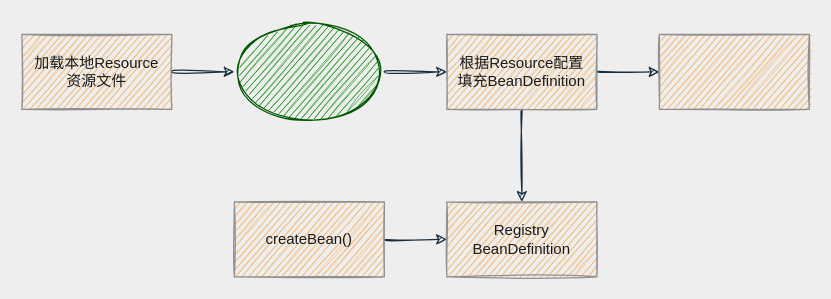
The diagram is 831 pixels wide and 299 high, and some of its shapes have lost their labels. Each missing label, with the box of its shape:
封装PropertyValues: (658, 33, 809, 109)
解析Resource: (233, 21, 384, 122)
